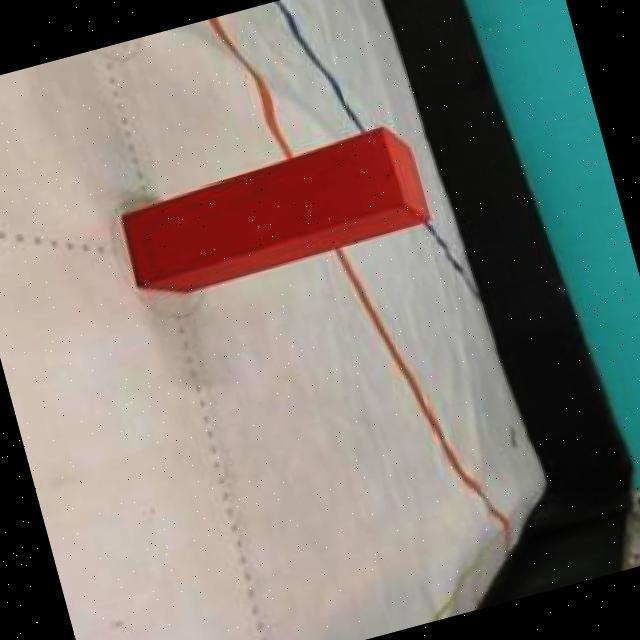redbox: (114, 122, 436, 307)
